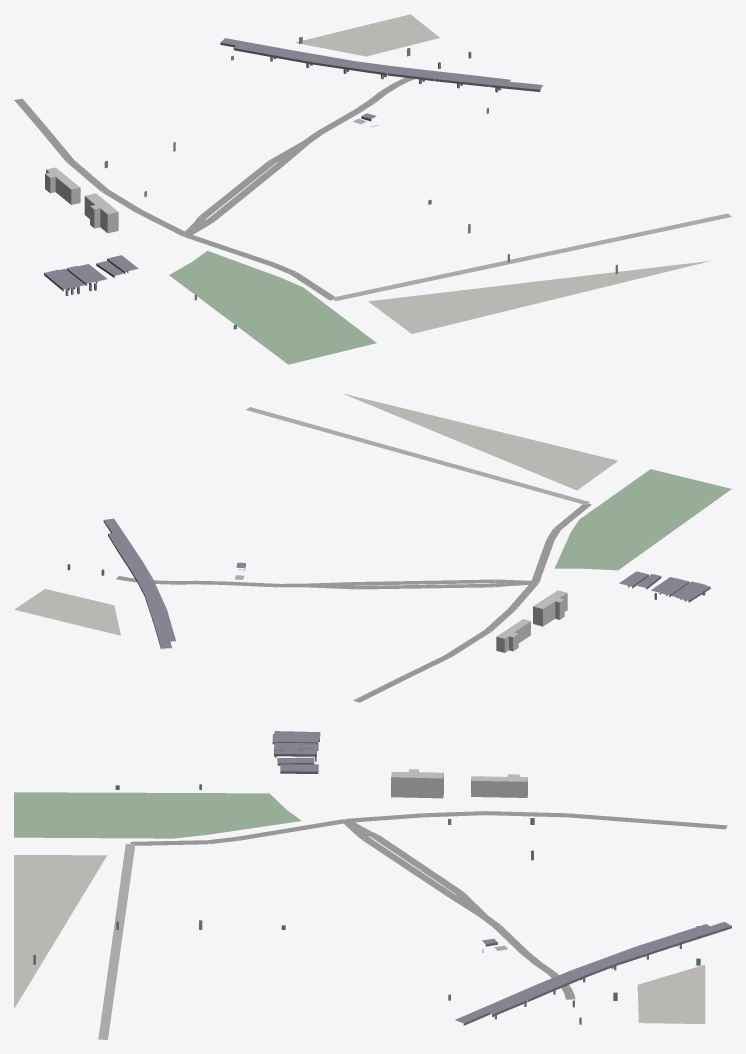
3 views of the same model, one above another, from view 1: azimuth 30°, elevation 25°; view 2: azimuth 150°, elevation 25°; view 3: azimuth 270°, elevation 25° (orthographic). The views are drawn at different scales.
Size of the model in its own units: 513 by 16.45 by 519.
